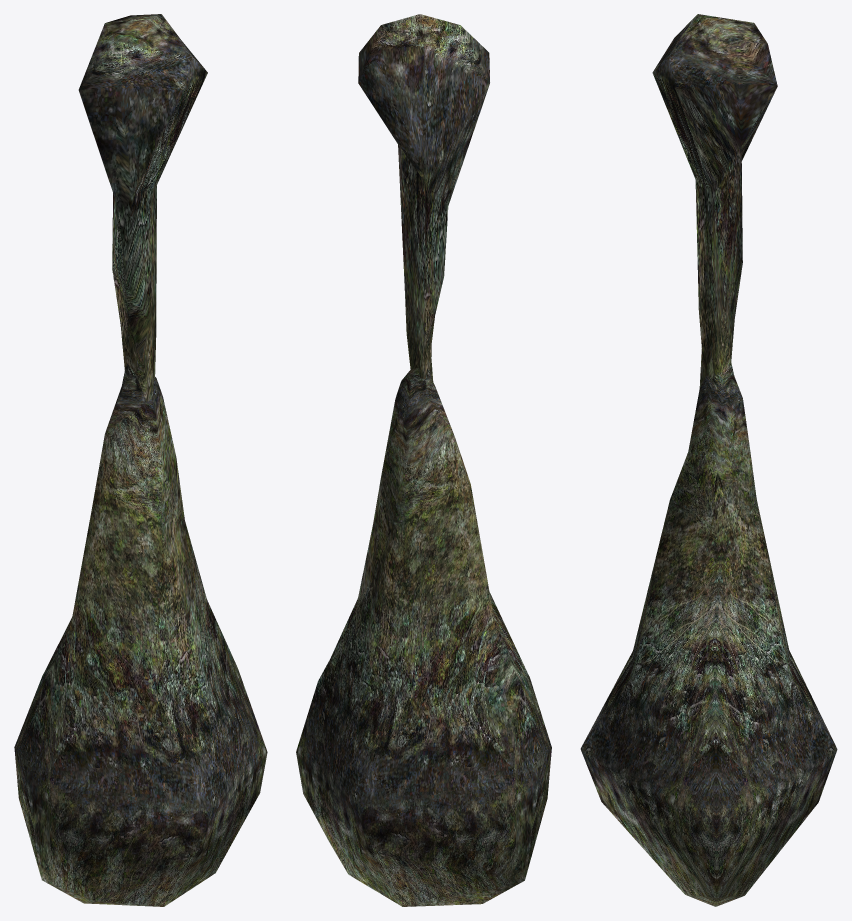
Rendered from thm_all_cave_column_damprock_a3_l1.fbx.
3 views of the same model, side by side, from view 1: azimuth 30°, elevation 25°; view 2: azimuth 150°, elevation 25°; view 3: azimuth 270°, elevation 25° (orthographic).
Parts seen in each view (by area): view 1: mesh_node; view 2: mesh_node; view 3: mesh_node.
Part boxes in pixels (x1=…): mesh_node: x1=14, y1=14, x2=267, y2=906; mesh_node: x1=296, y1=14, x2=551, y2=906; mesh_node: x1=580, y1=14, x2=837, y2=906.
Bounding box in the file's own units: 4.26 × 15.14 × 4.09.
